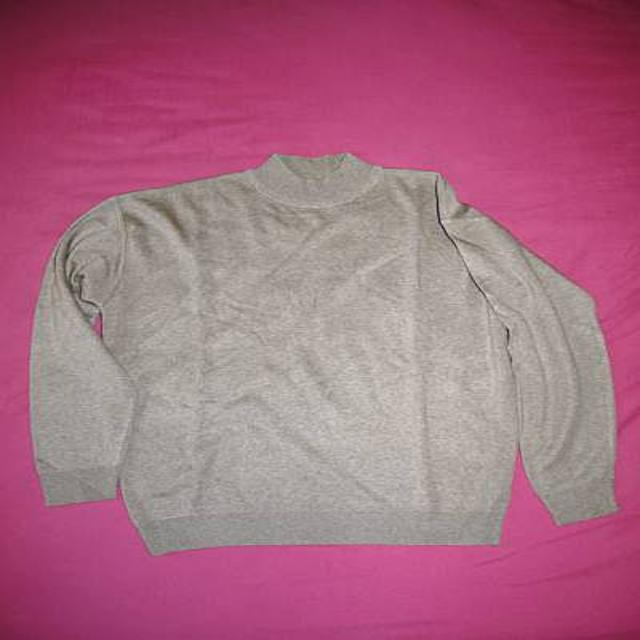SHIRT: (25, 146, 640, 558)
